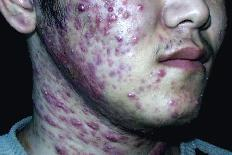fore: (67, 116, 83, 132), (74, 3, 90, 15), (44, 114, 57, 126), (157, 68, 168, 81), (32, 105, 43, 116), (106, 6, 119, 15), (125, 89, 138, 98), (94, 34, 107, 43), (171, 109, 182, 119), (90, 23, 101, 32), (105, 128, 113, 140), (92, 86, 101, 96), (56, 100, 65, 110), (85, 119, 95, 128), (55, 145, 65, 154), (92, 50, 101, 60), (191, 95, 200, 104), (105, 48, 114, 57), (116, 63, 124, 73), (116, 46, 123, 57), (110, 14, 118, 23), (46, 37, 54, 46), (61, 46, 69, 55), (157, 34, 165, 43), (174, 95, 182, 104), (92, 76, 101, 84), (136, 2, 143, 12), (130, 35, 138, 43), (62, 88, 70, 96), (68, 46, 77, 53), (49, 48, 56, 57), (34, 65, 41, 74), (138, 82, 145, 91), (116, 35, 123, 43), (123, 14, 131, 21), (104, 25, 112, 32), (73, 23, 81, 30), (43, 90, 51, 97), (94, 135, 101, 143), (74, 64, 83, 70), (107, 70, 113, 79), (79, 43, 86, 50), (82, 72, 89, 79), (133, 103, 140, 110), (149, 77, 157, 83), (105, 142, 111, 150), (109, 58, 114, 67), (86, 64, 93, 70), (58, 30, 66, 35), (78, 17, 84, 23), (168, 97, 174, 103), (65, 65, 70, 72), (96, 16, 101, 22), (61, 57, 67, 62), (85, 30, 89, 37)
